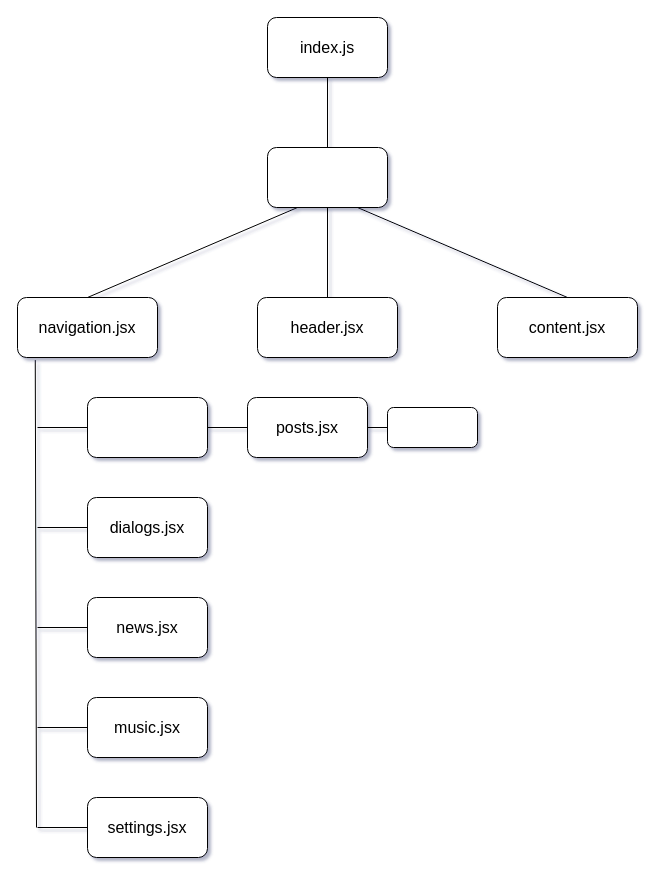
This 661x881 diagram has some shape labels left out. Here are the shapes that lost their labels. From the top down, the box of each, then its label:
(266, 146, 388, 208): App.js
(86, 396, 208, 458): profile.jsx
(386, 406, 478, 448): post.jsx
